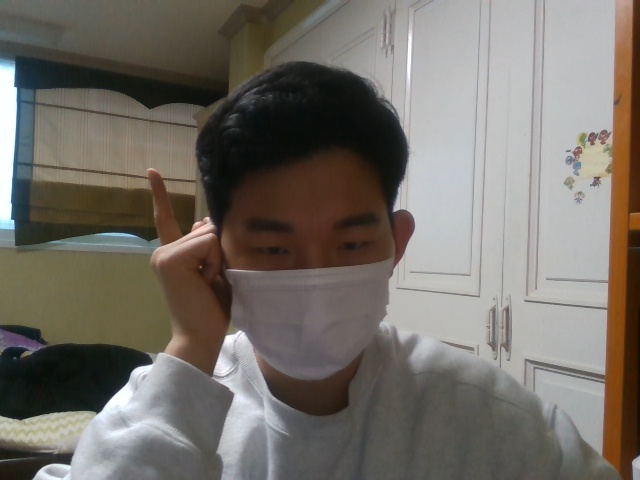PHONE: (146, 168, 232, 344)
